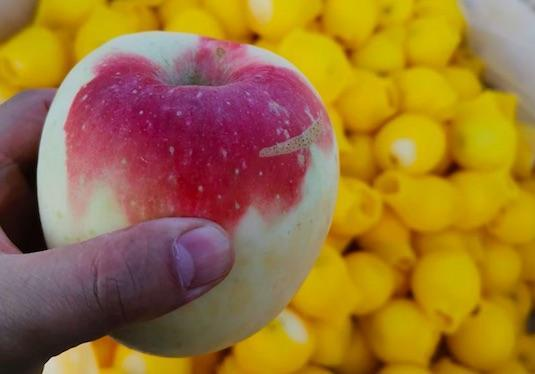apple: (22, 34, 335, 355)
